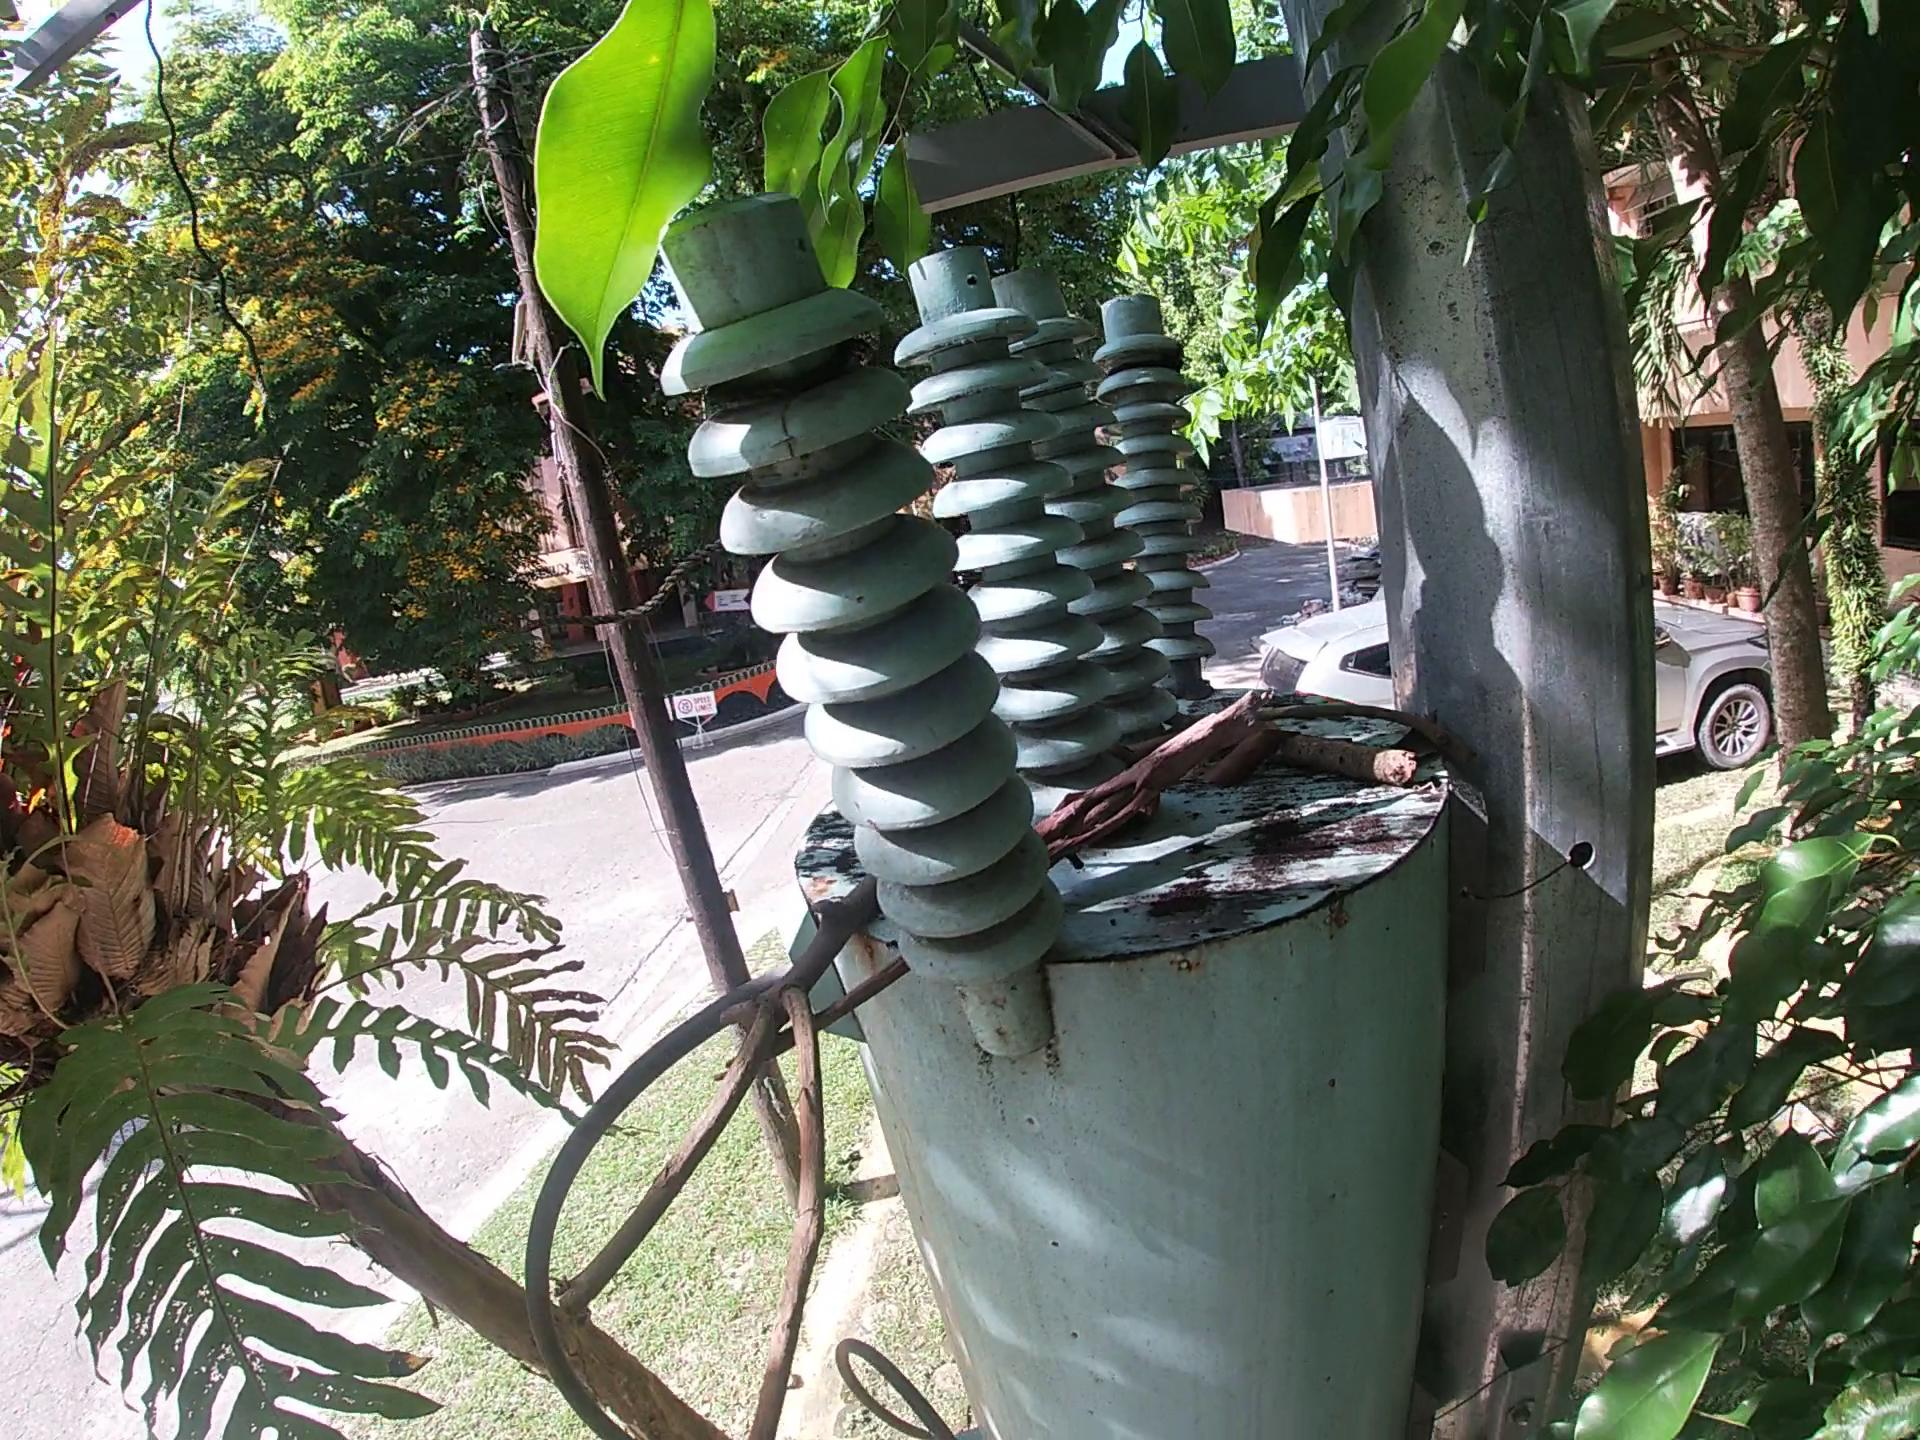leaf: (1199, 723, 1296, 790), (1389, 706, 1450, 765)
tree branch: (544, 871, 900, 1438), (1025, 687, 1277, 874), (709, 947, 915, 1091), (1259, 687, 1483, 770), (1267, 725, 1420, 790)
